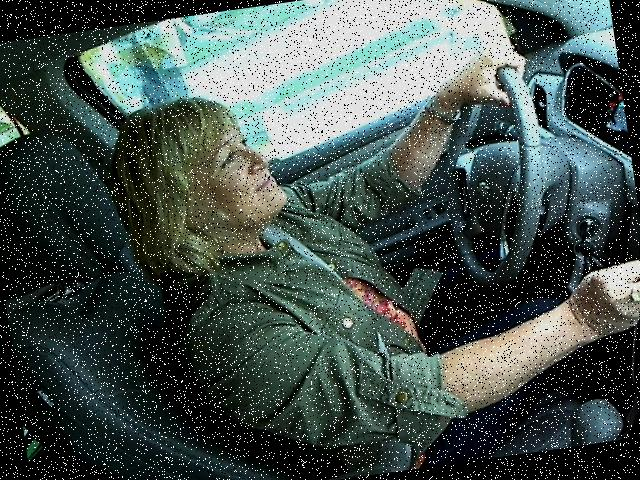c3 - Operating the Radio: (92, 21, 639, 462)
